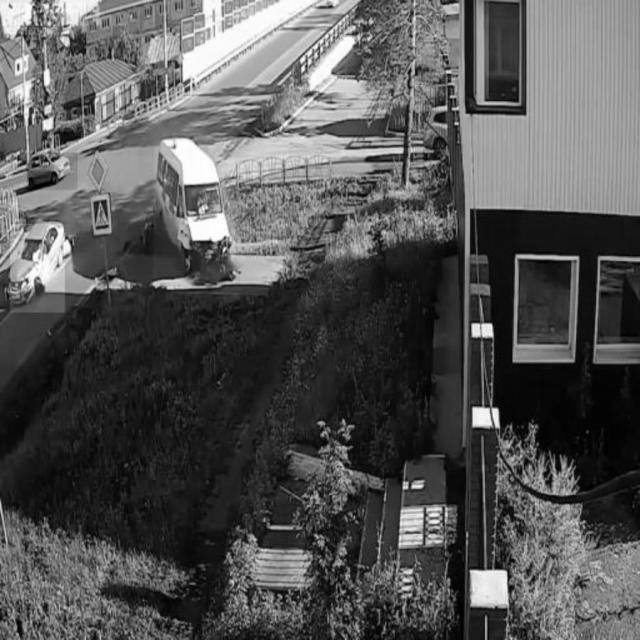vehicle: (154, 142, 235, 286), (11, 224, 66, 312), (27, 153, 78, 190)
